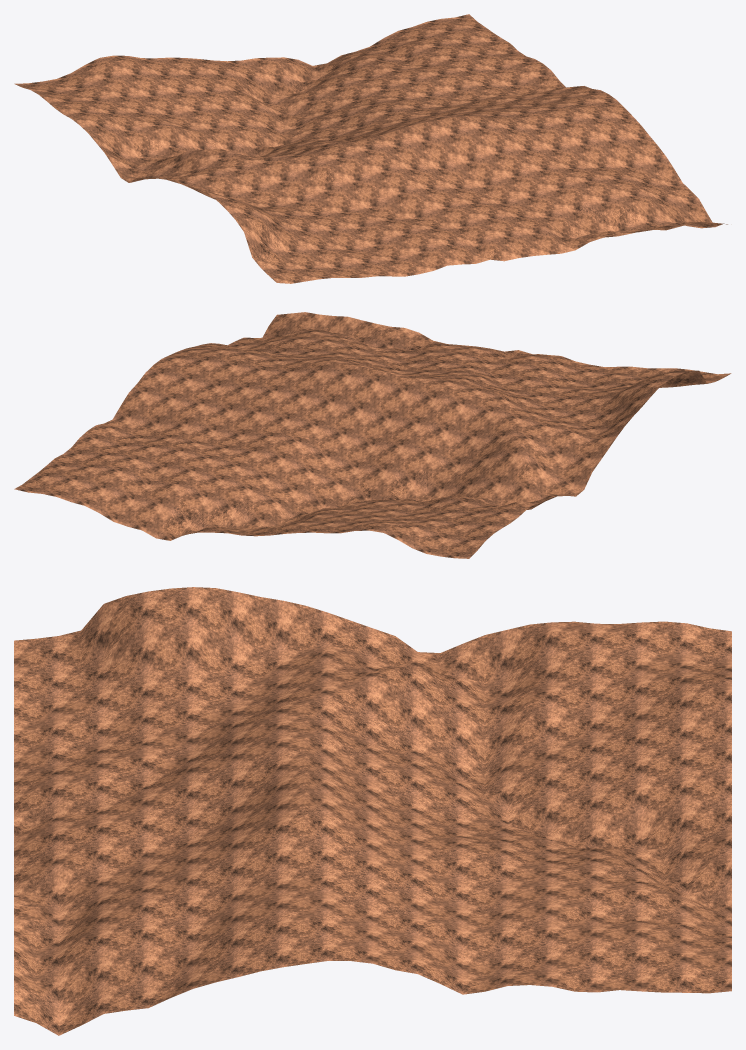
The model's file is terrain_03_00.dae.
3 views of the same model, one above another, from view 1: azimuth 30°, elevation 25°; view 2: azimuth 150°, elevation 25°; view 3: azimuth 270°, elevation 25° (orthographic). The views are drawn at different scales.
Parts seen in each view (by area): view 1: terrain_03_00-node; view 2: terrain_03_00-node; view 3: terrain_03_00-node.
Part boxes in pixels (bbox=[...]): terrain_03_00-node: bbox=[14, 14, 727, 283]; terrain_03_00-node: bbox=[14, 312, 731, 558]; terrain_03_00-node: bbox=[14, 587, 731, 1035].
Bounding box in the file's own units: 128 × 128 × 28.6.
Materials: 1 (1 with a texture image).
